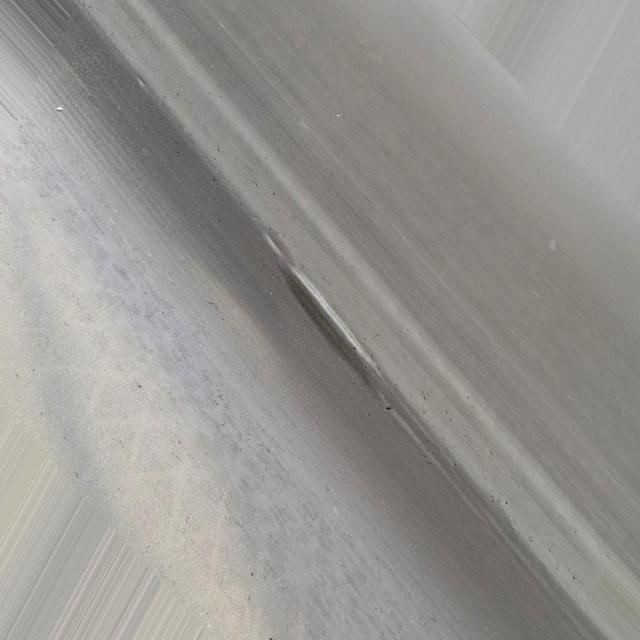Impact Damage: (266, 248, 386, 385)
